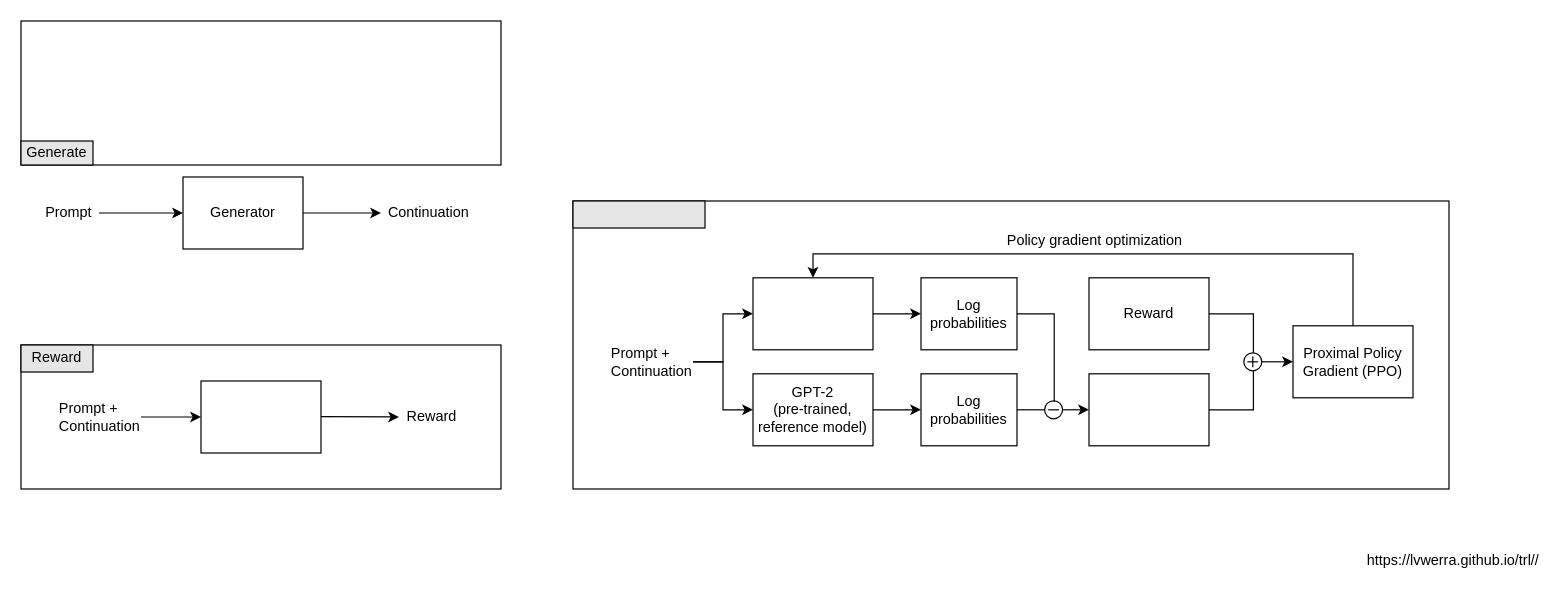
This 1566x590 diagram has some shape labels left out. The centre of each missing label's shape, as x and y in pixels:
BERT (classifier model): the point at 260,416
GPT-2 (fine-tuning): the point at 812,313
KL-divergence (constraint): the point at 1148,409
PPO optimization: the point at 638,214
